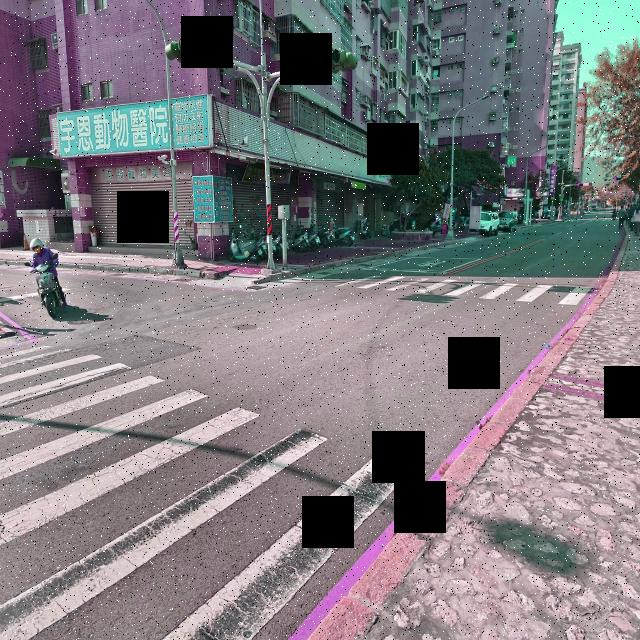person: (30, 238, 68, 307)
zebra crossing: (0, 340, 411, 640), (341, 271, 594, 307)
